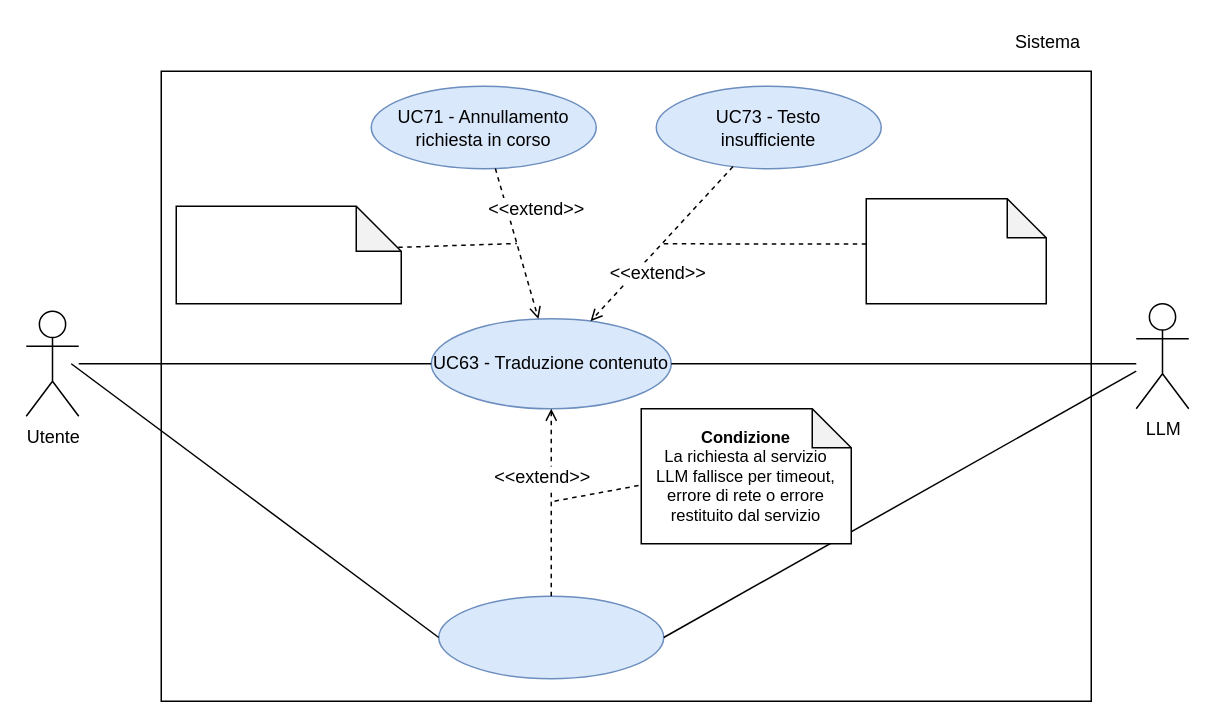
The diagram is 1215 pixels wide and 728 high, and some of its shapes have lost their labels. The centre of each missing label's shape, as x and y in pixels:
Condizione Il testo da tradurre è troppo breve: point 955,250
Condizione L'utente decide di interrompere la richiesta: point 288,254
UC72 - Errore LLM: point 550,637
